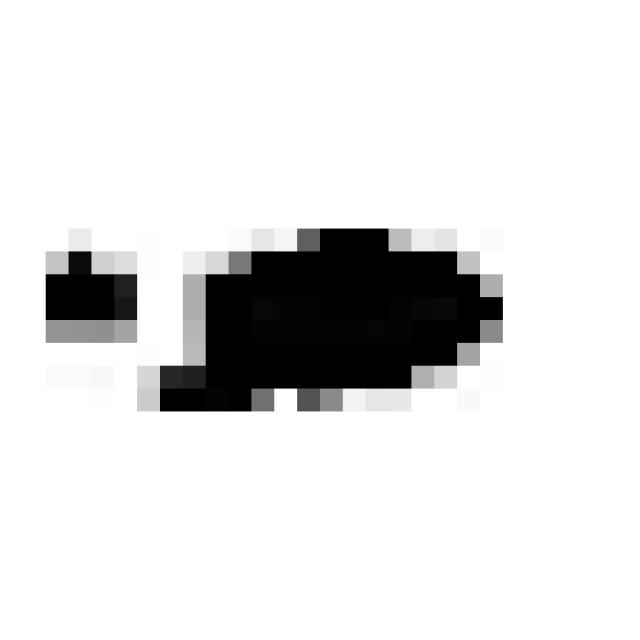0 -zero-: (36, 210, 516, 435)
